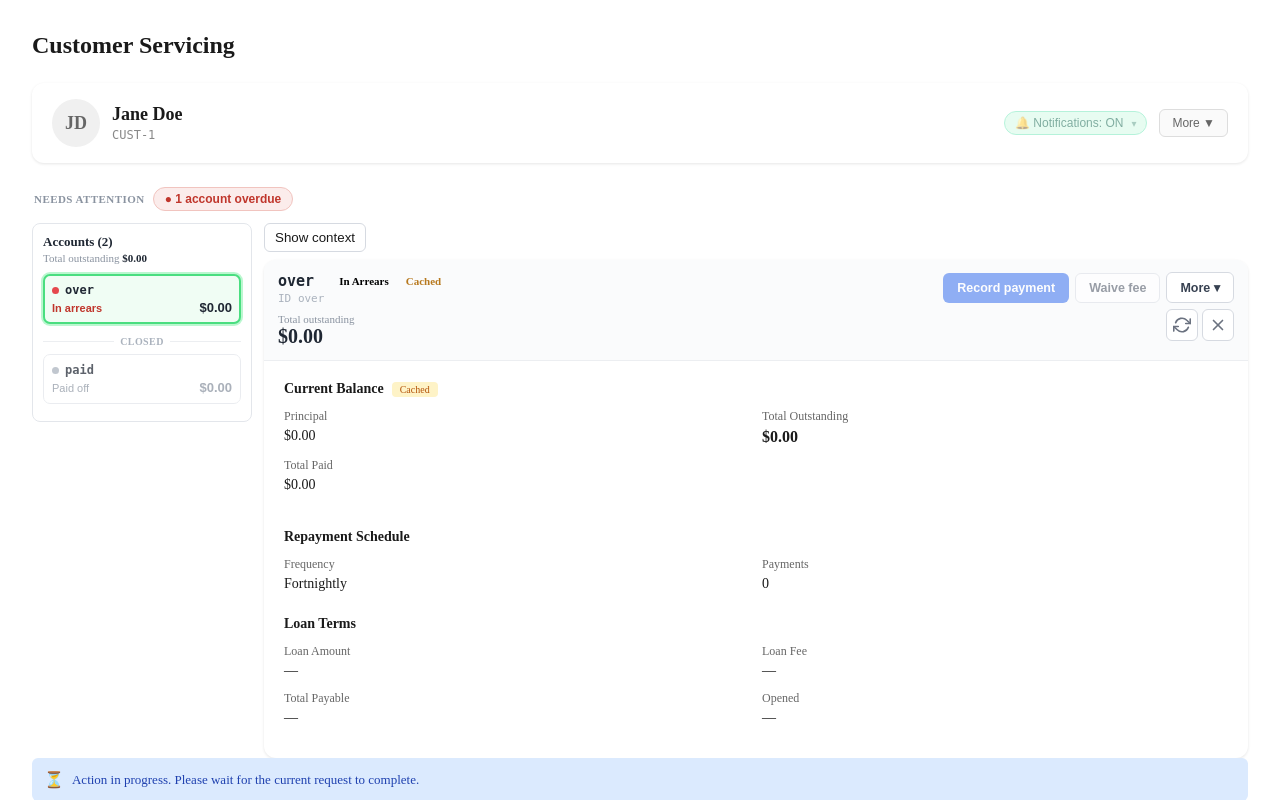
Scenario: ServicingView cockpit layout › close button dismisses the detail panel instead of re-selecting an account
The image size is (1280, 800).
# Multi-account customer, so the close (deselect) control is shown.
Click the button with test id "close-account-panel" at (1218, 325), box [1202,309,1234,341]
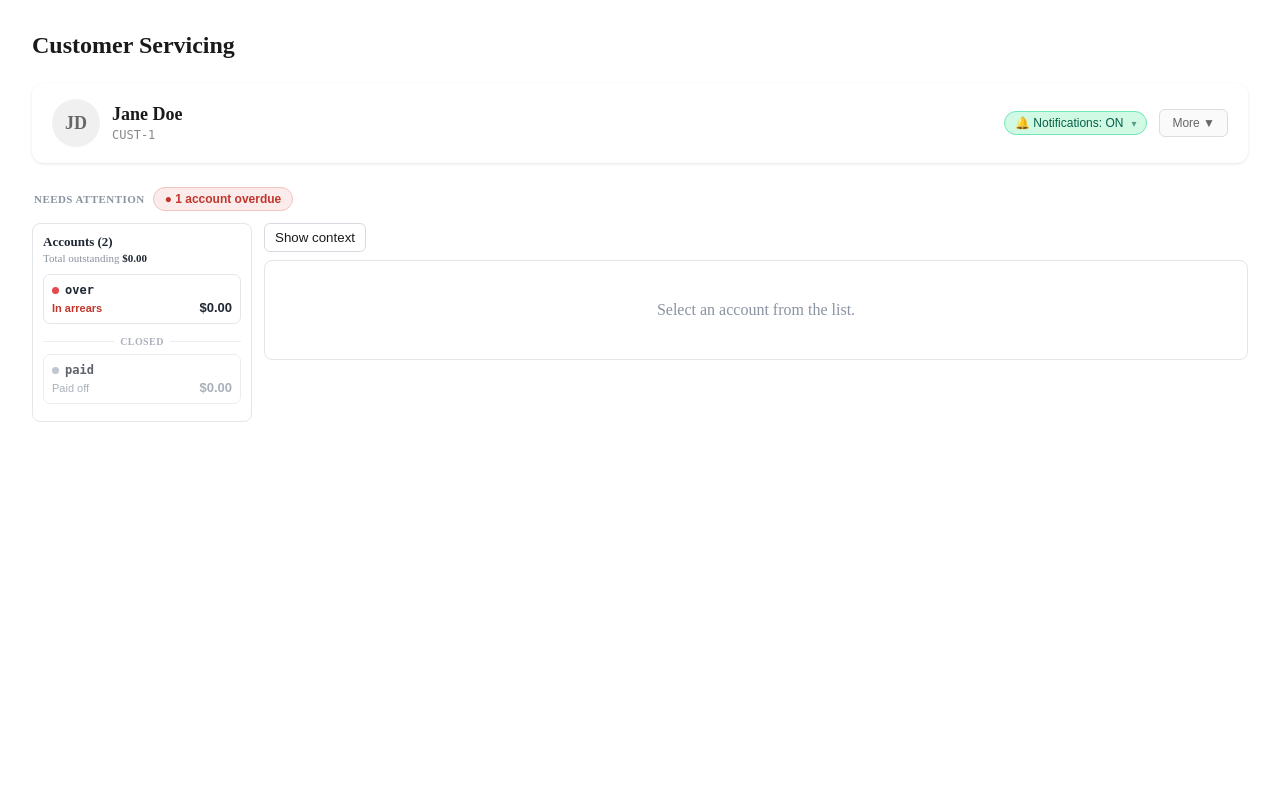
Check: the element with test id "account-summary-bar" is gone
Check: the text "Select an account from the list." is shown, box [264,260,1248,360]
